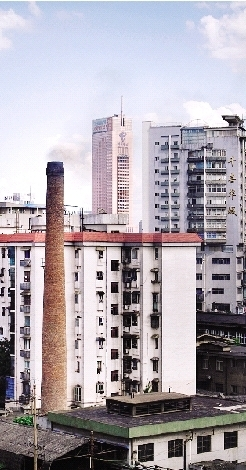dust: (32, 120, 87, 168)
